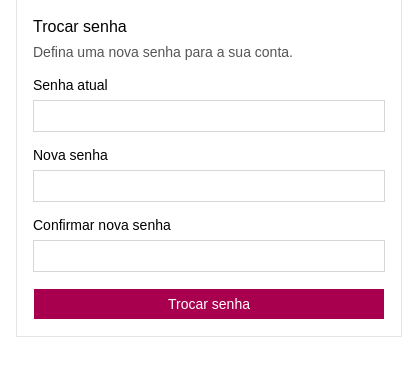
Scenario: ChangePasswordForm › mostra erro quando a confirmação não coincide com a nova senha
In the password field labelled "Senha atual": [209, 116] box x1=33 y1=100 x2=385 y2=132, type "Admin@123"
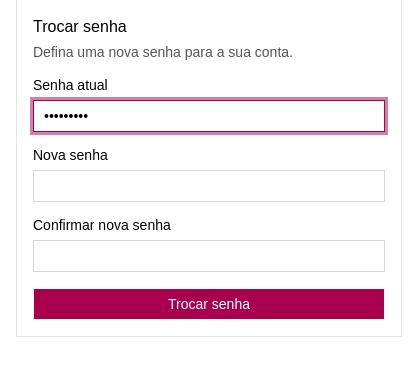
In the password field labelled "Nova senha": [209, 186] box x1=33 y1=170 x2=385 y2=202, type "nova-senha-secreta-123"
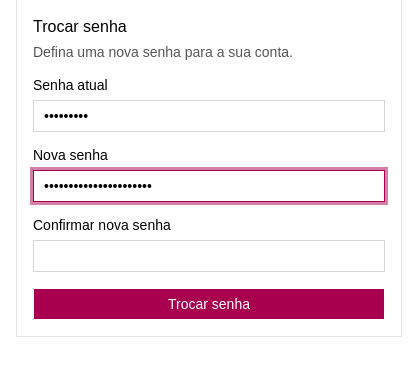
In the password field labelled "Confirmar nova senha": [209, 256] box x1=33 y1=240 x2=385 y2=272, type "outra-coisa"
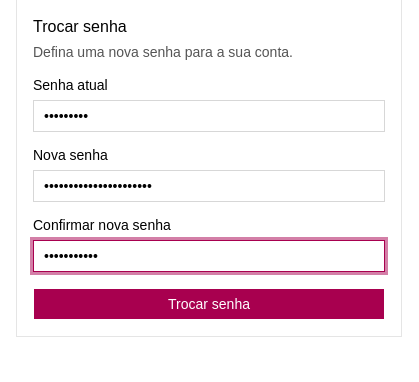
Click the button "Trocar senha": [209, 304] box x1=33 y1=288 x2=385 y2=320
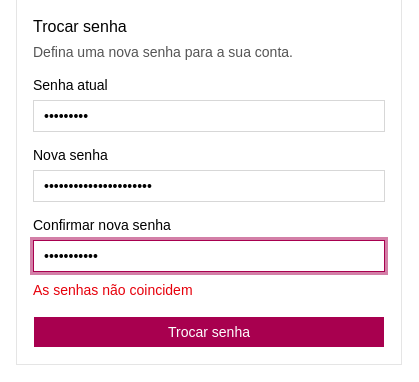
Check: the text "As senhas não coincidem" is shown, box x1=33 y1=282 x2=192 y2=298
